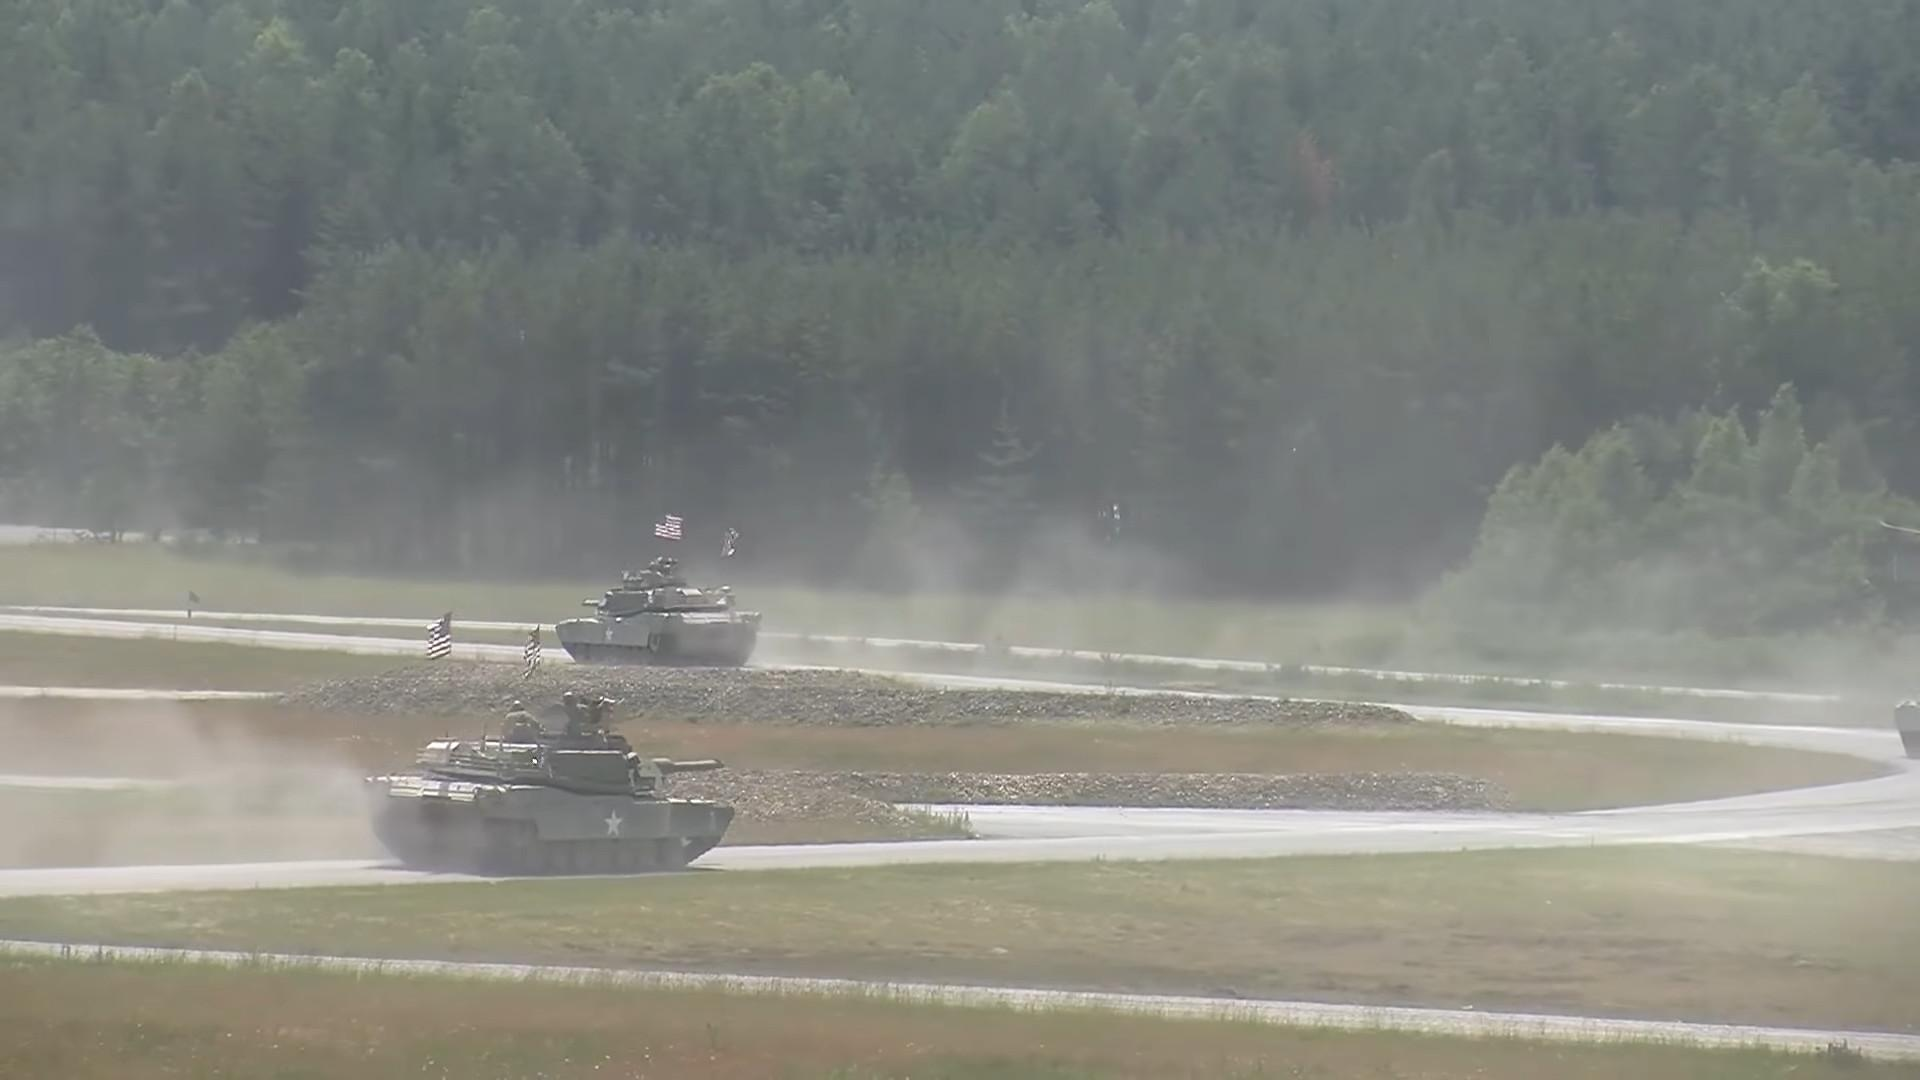tank: (367, 729, 733, 877), (556, 556, 760, 665)
